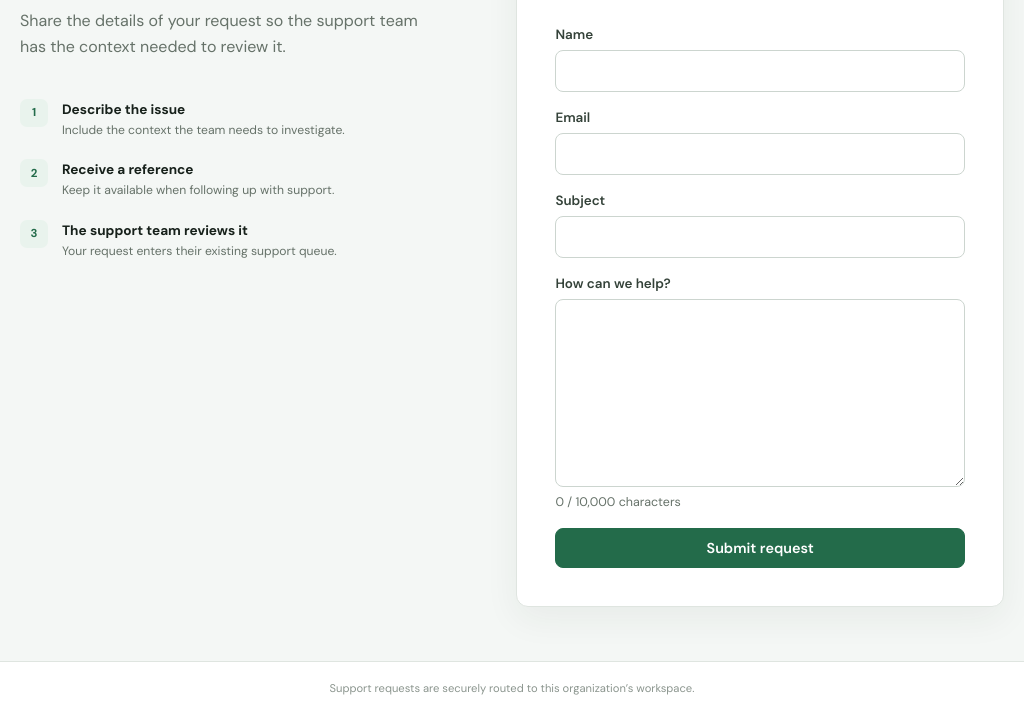
Scenario: invalid support form shows useful inline validation
(page scrolled)
Click the button "Submit request": (760, 548) [555,528,965,568]
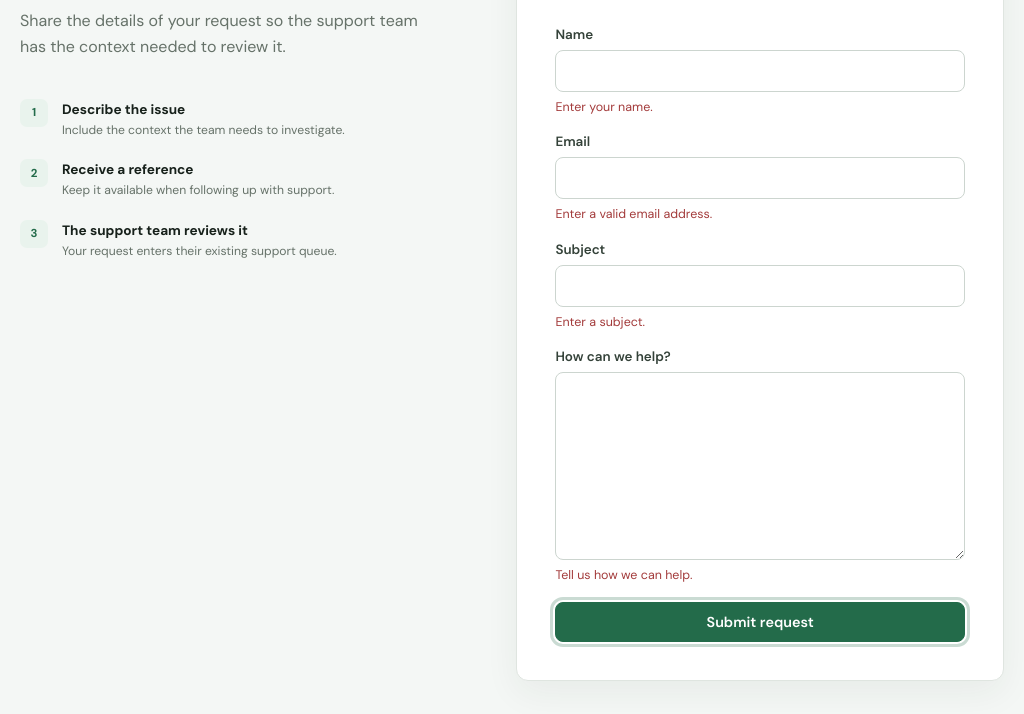
Now the text "Enter your name." is shown, box [555,99,653,115]
Now the text "Enter a valid email address." is shown, box [555,206,712,222]
Now the text "Enter a subject." is shown, box [555,314,645,330]
